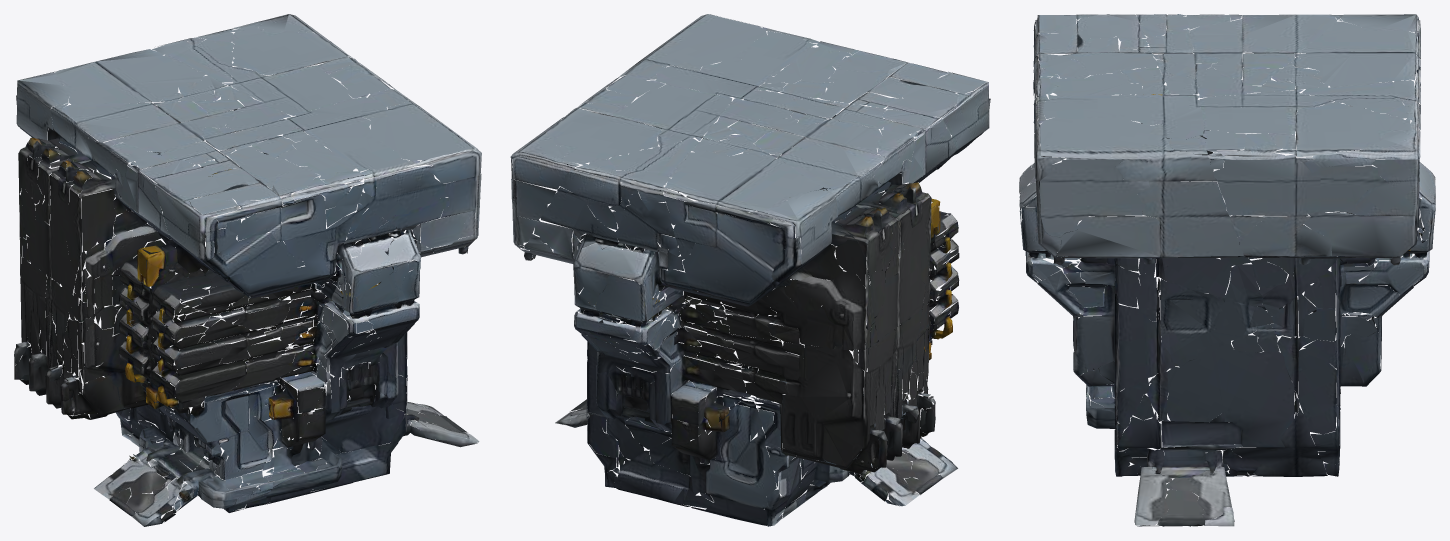
Rendered from HL_Asset_BunkerPillar.glb.
3 renders of one model, left to right at view 1: azimuth 30°, elevation 25°; view 2: azimuth 150°, elevation 25°; view 3: azimuth 270°, elevation 25°, orthographic. The views are drawn at different scales.
Visible parts, largest first — view 1: tripo_node_8b5dfacb-7b57-49b7-bfb6-3ba6b48af324; view 2: tripo_node_8b5dfacb-7b57-49b7-bfb6-3ba6b48af324; view 3: tripo_node_8b5dfacb-7b57-49b7-bfb6-3ba6b48af324.
Boxes of the visible parts, x1,y1,x2,y2 form: tripo_node_8b5dfacb-7b57-49b7-bfb6-3ba6b48af324: [14, 14, 481, 526]; tripo_node_8b5dfacb-7b57-49b7-bfb6-3ba6b48af324: [510, 14, 990, 526]; tripo_node_8b5dfacb-7b57-49b7-bfb6-3ba6b48af324: [1019, 14, 1435, 526].
Size of the model in its own units: 0.9825 by 0.8667 by 0.9316.
Materials: 1 (1 with a texture image).
